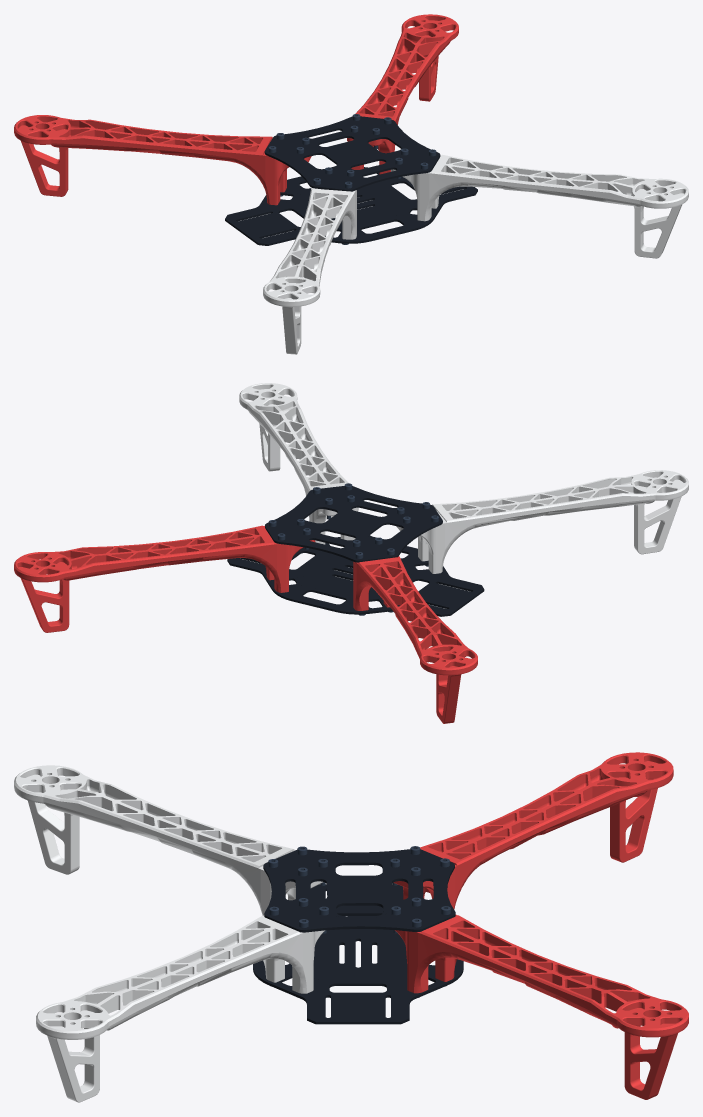
The model's file is f450_frame.glb.
3 views of the same model, one above another, from view 1: azimuth 30°, elevation 25°; view 2: azimuth 150°, elevation 25°; view 3: azimuth 270°, elevation 25° (orthographic). The views are drawn at different scales.
Visible parts, largest first — view 1: F450_Arm_Front_Left_M3, F450_Arm_Rear_Right_M4, F450_Top_Plate, F450_Bottom_Plate, F450_Arm_Rear_Left_M2, F450_Arm_Front_Right_M1; view 2: F450_Arm_Rear_Left_M2, F450_Arm_Front_Right_M1, F450_Top_Plate, F450_Arm_Front_Left_M3, F450_Bottom_Plate, F450_Arm_Rear_Right_M4; view 3: F450_Arm_Front_Right_M1, F450_Arm_Rear_Right_M4, F450_Arm_Rear_Left_M2, F450_Arm_Front_Left_M3, F450_Top_Plate, F450_Bottom_Plate.
Boxes of the visible parts, x1,y1,x2,y2 form: F450_Arm_Front_Left_M3: [14, 115, 311, 205]; F450_Arm_Rear_Right_M4: [391, 154, 688, 258]; F450_Top_Plate: [264, 116, 440, 191]; F450_Bottom_Plate: [225, 167, 477, 245]; F450_Arm_Rear_Left_M2: [263, 188, 356, 354]; F450_Arm_Front_Right_M1: [347, 14, 458, 174]; F450_Arm_Rear_Left_M2: [396, 470, 688, 573]; F450_Arm_Front_Right_M1: [14, 525, 315, 632]; F450_Top_Plate: [265, 486, 442, 562]; F450_Arm_Front_Left_M3: [353, 556, 477, 723]; F450_Bottom_Plate: [227, 537, 484, 616]; F450_Arm_Rear_Right_M4: [239, 383, 358, 544]; F450_Arm_Front_Right_M1: [395, 914, 688, 1099]; F450_Arm_Rear_Right_M4: [36, 915, 325, 1102]; F450_Arm_Rear_Left_M2: [14, 765, 323, 915]; F450_Arm_Front_Left_M3: [393, 752, 673, 909]; F450_Top_Plate: [263, 849, 455, 932]; F450_Bottom_Plate: [253, 884, 463, 1024].
Bounding box in the file's own units: 2.94 × 0.4621 × 2.99.
